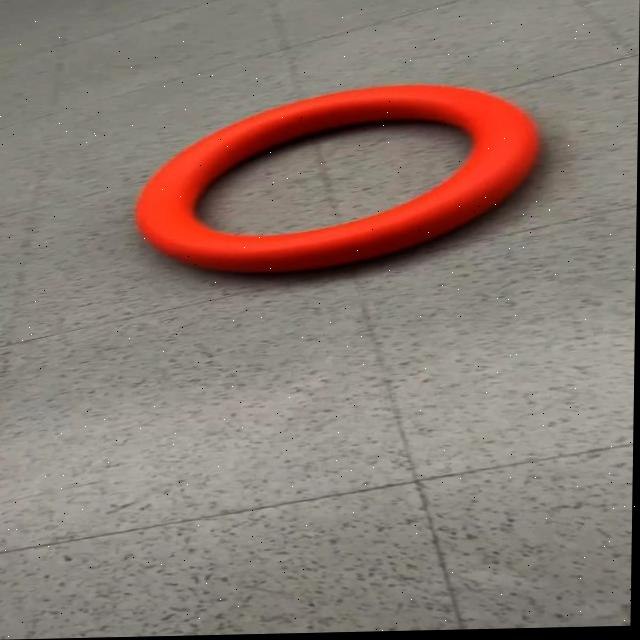note: (133, 83, 544, 278)
